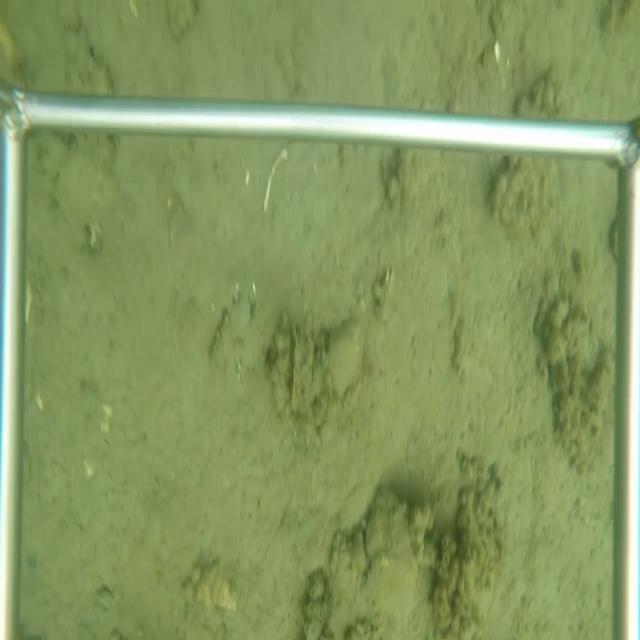Oyster-Closed: (290, 327, 303, 418)
Oyster-Indeterminate: (209, 281, 251, 372)
